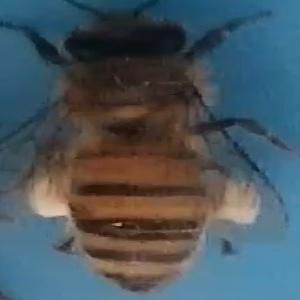bee: (7, 2, 293, 294)
